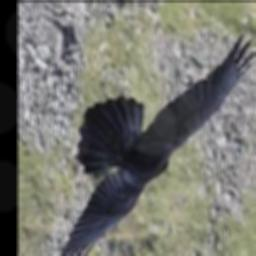Crow: (53, 33, 256, 256)
